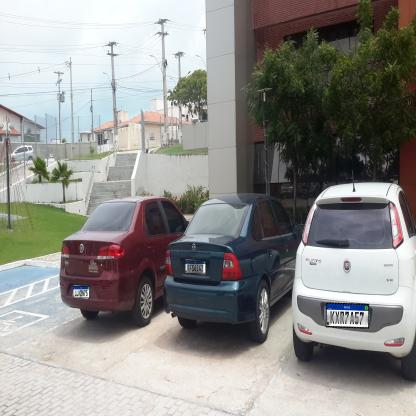PlacaM: (326, 302, 369, 328), (185, 260, 206, 274), (73, 286, 90, 298)
